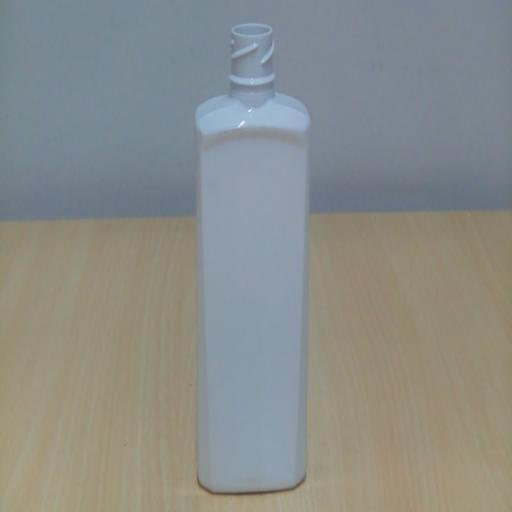Good: (184, 9, 322, 504)
